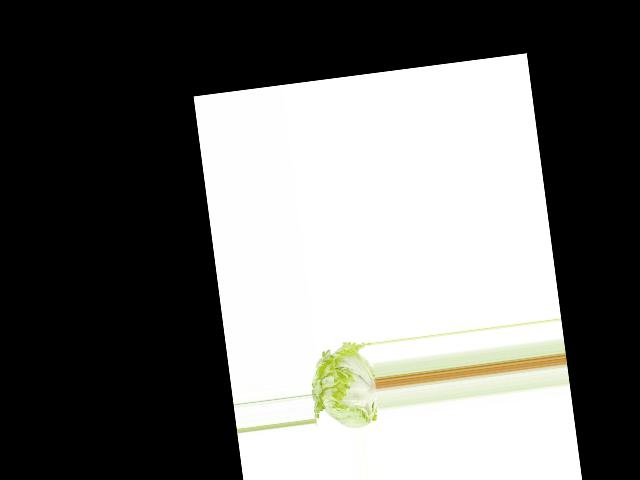lettuce: (305, 335, 382, 435)
